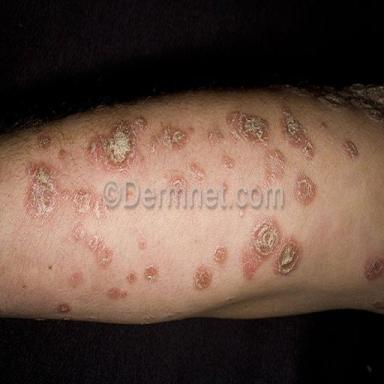Psoriasis: (25, 162, 107, 220), (241, 217, 301, 279), (88, 117, 147, 172), (282, 107, 315, 160), (73, 226, 113, 267), (227, 111, 269, 146), (145, 124, 195, 153), (168, 162, 205, 187), (264, 149, 287, 185), (295, 173, 317, 205), (193, 265, 211, 289), (341, 139, 359, 161), (212, 245, 227, 263), (207, 129, 223, 145), (107, 287, 127, 299), (144, 265, 158, 282), (221, 155, 235, 172), (55, 302, 71, 314), (127, 271, 137, 283), (138, 239, 147, 250)
